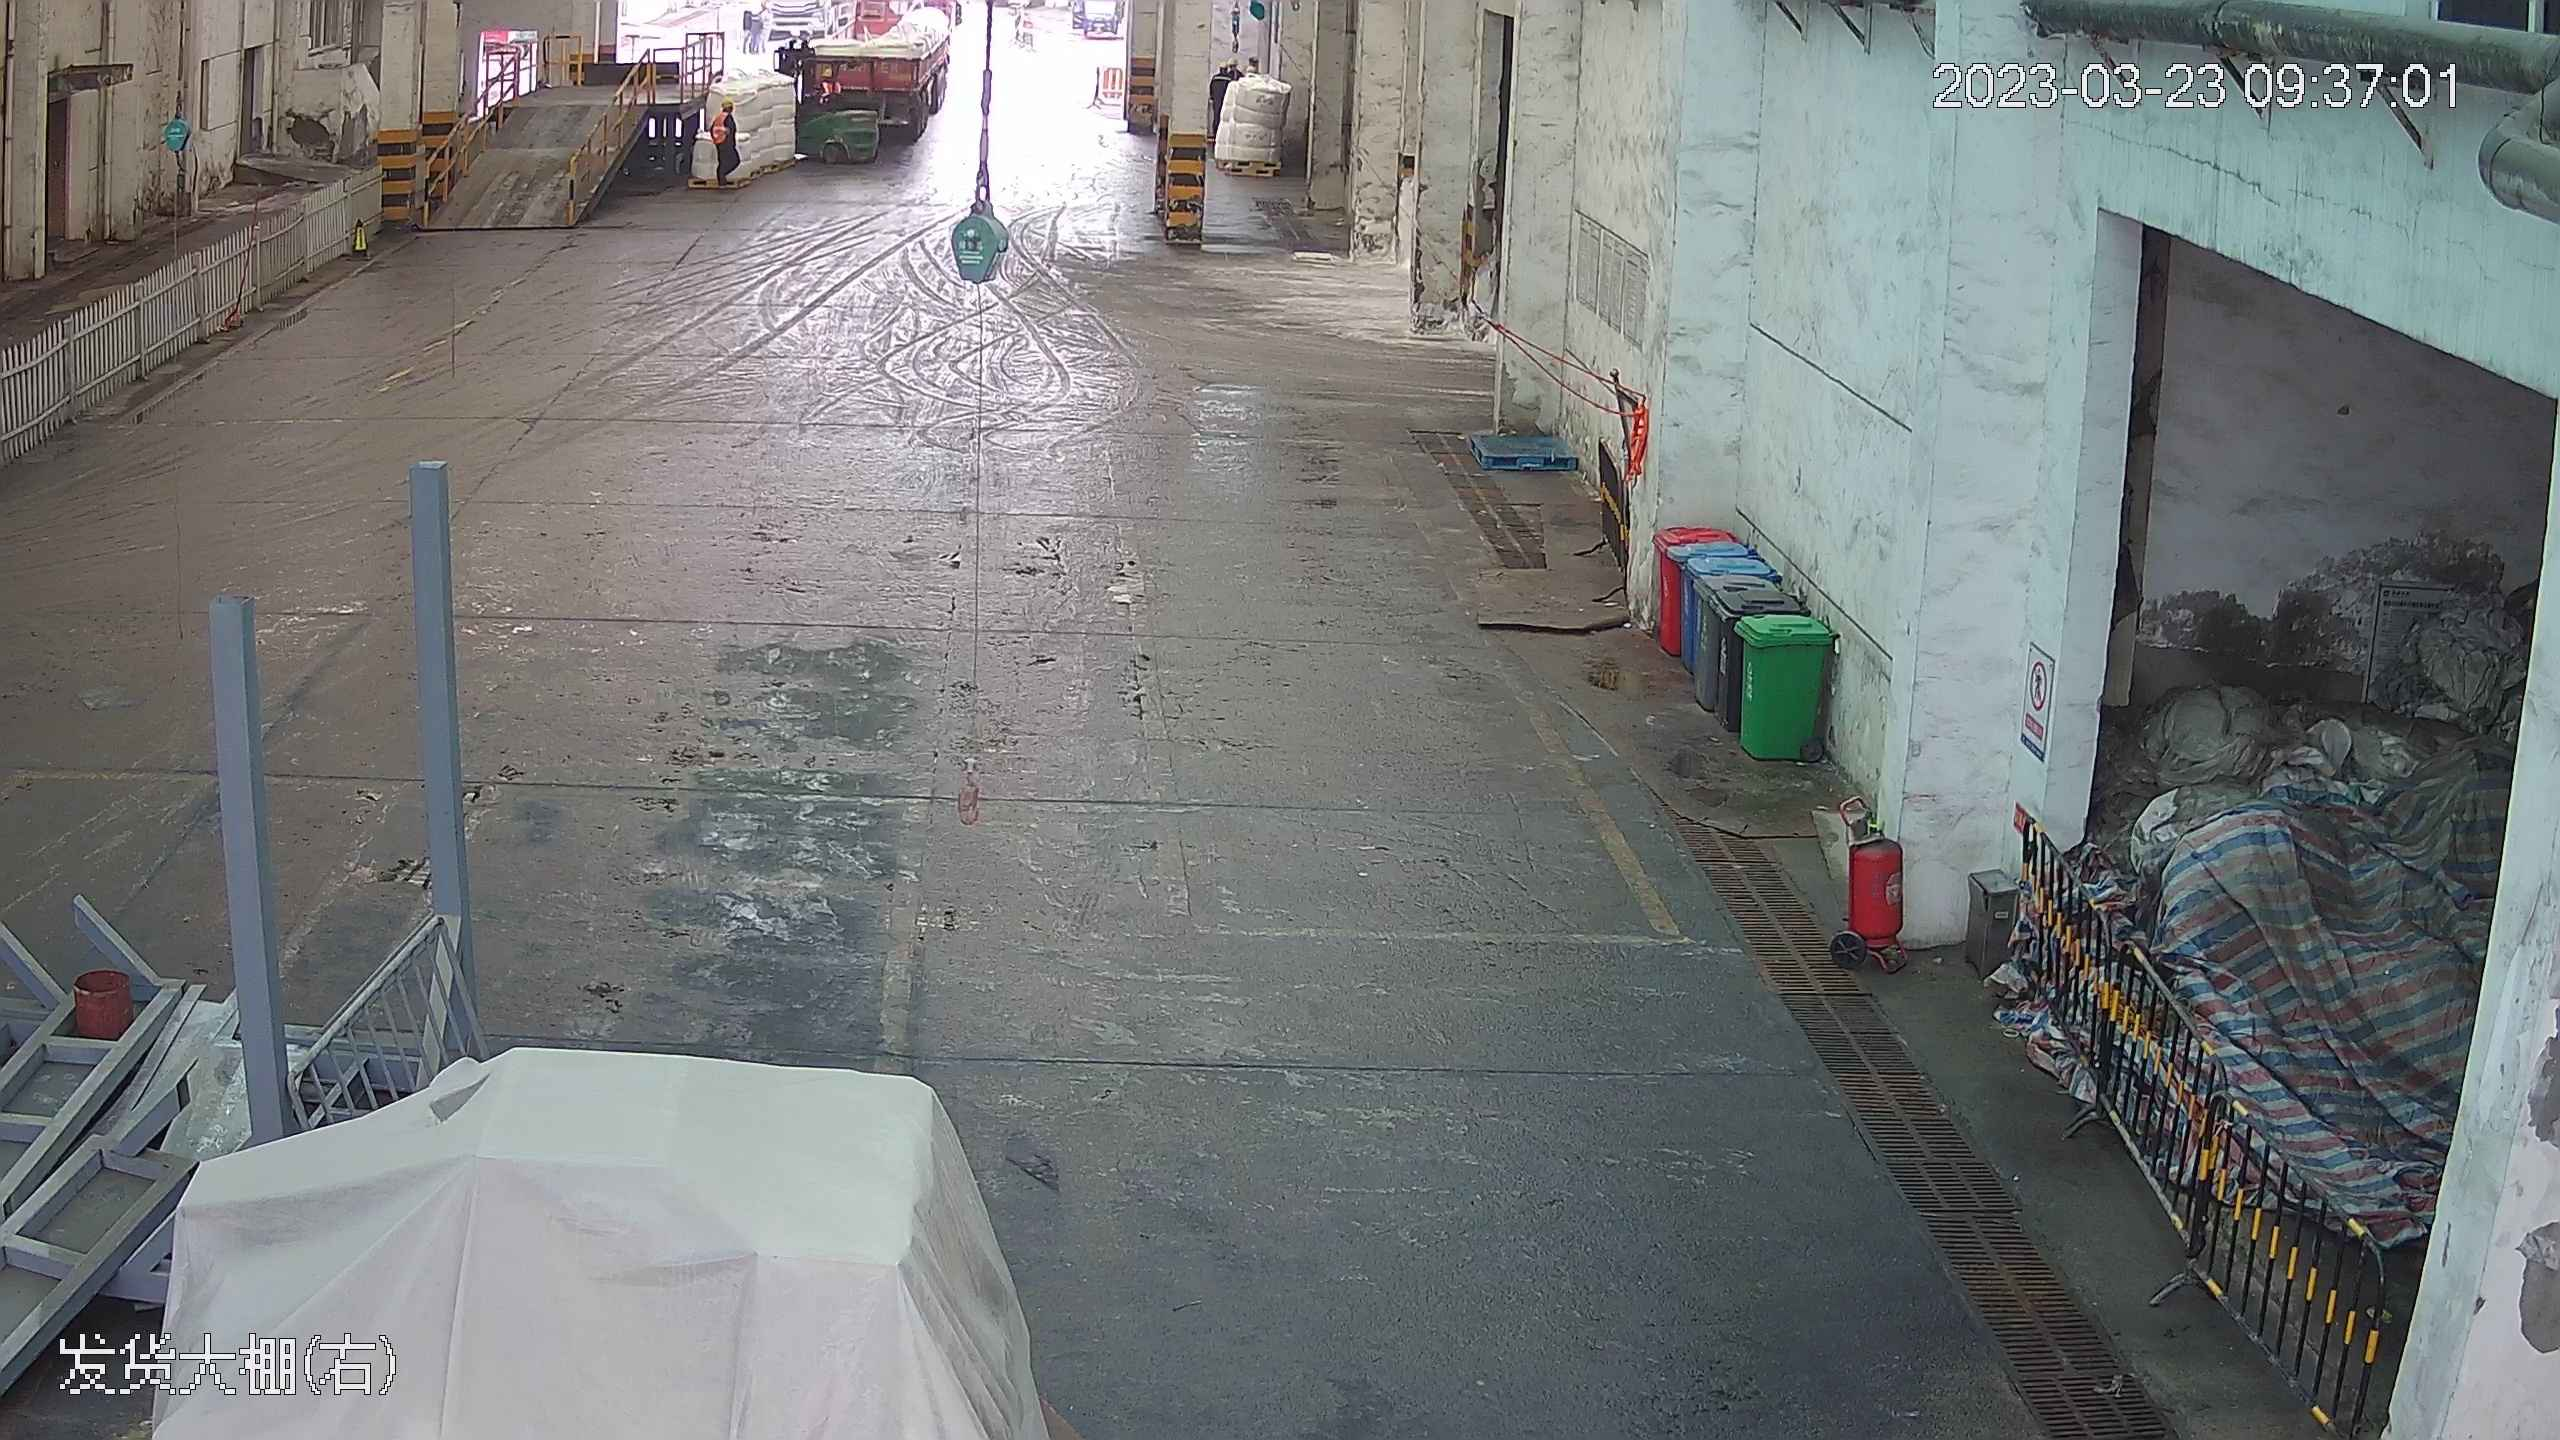head: (713, 89, 736, 128)
helmet: (719, 97, 734, 111), (821, 69, 832, 78)
people: (709, 96, 740, 181)
truck: (795, 9, 954, 156)
